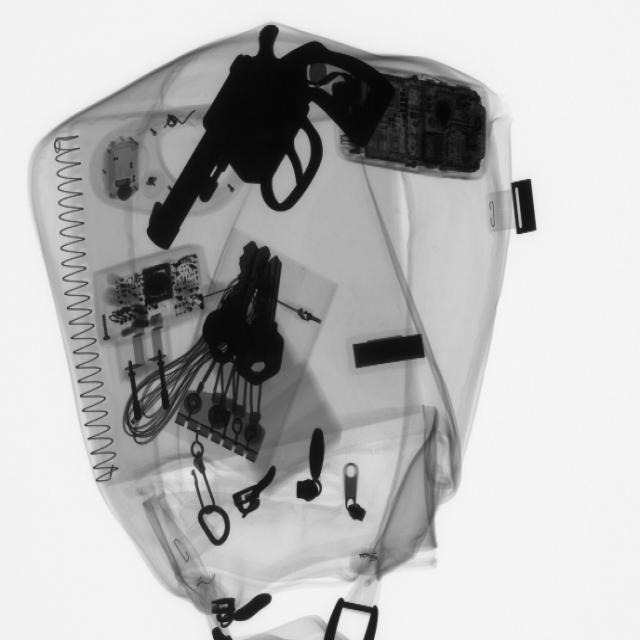GUN: (153, 24, 393, 258)
